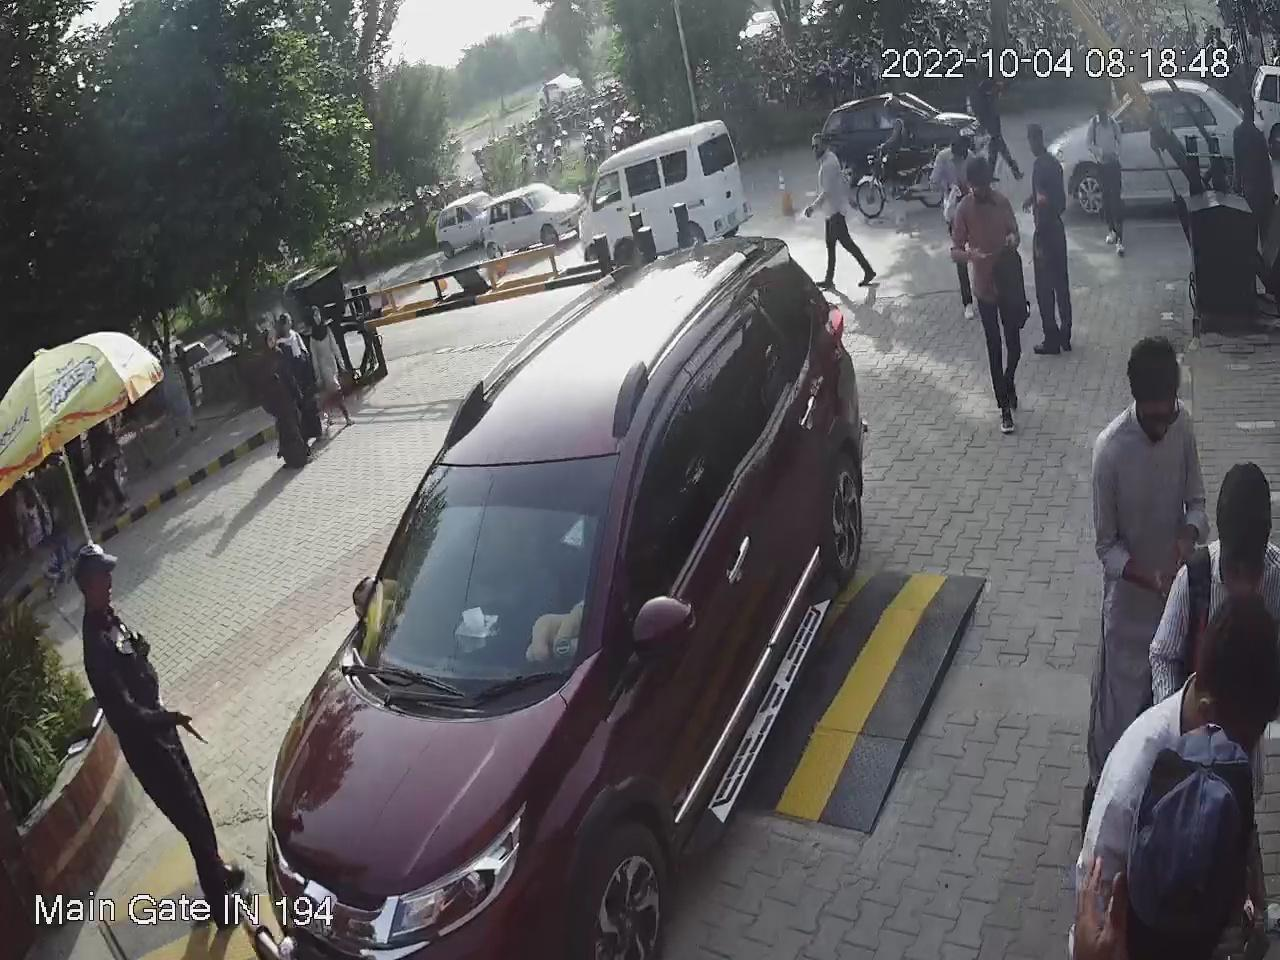windshield: (353, 448, 628, 668)
